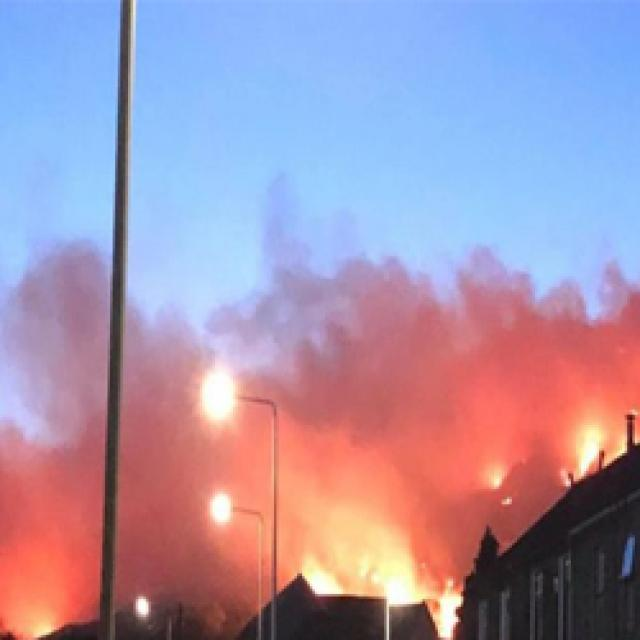Fire: (382, 563, 458, 640), (560, 418, 625, 480), (300, 556, 340, 595)
Smoke: (0, 173, 295, 639), (294, 210, 640, 561)
